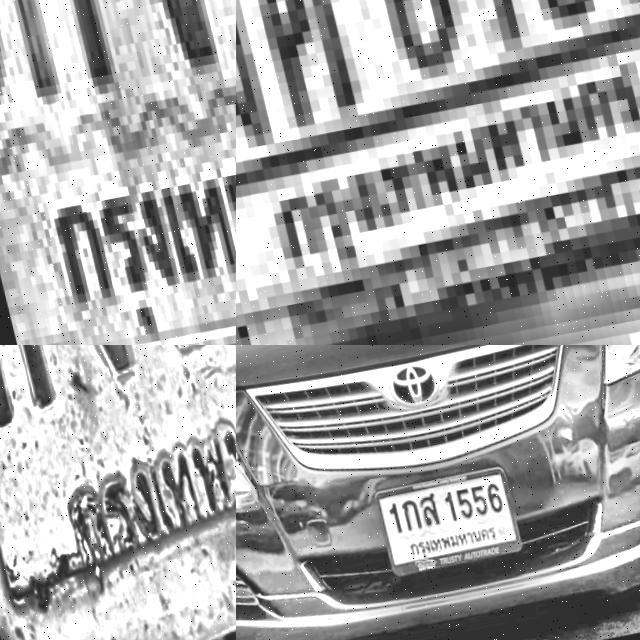license-plate: (236, 0, 640, 345), (0, 0, 236, 345), (0, 345, 236, 640), (362, 462, 518, 581)
